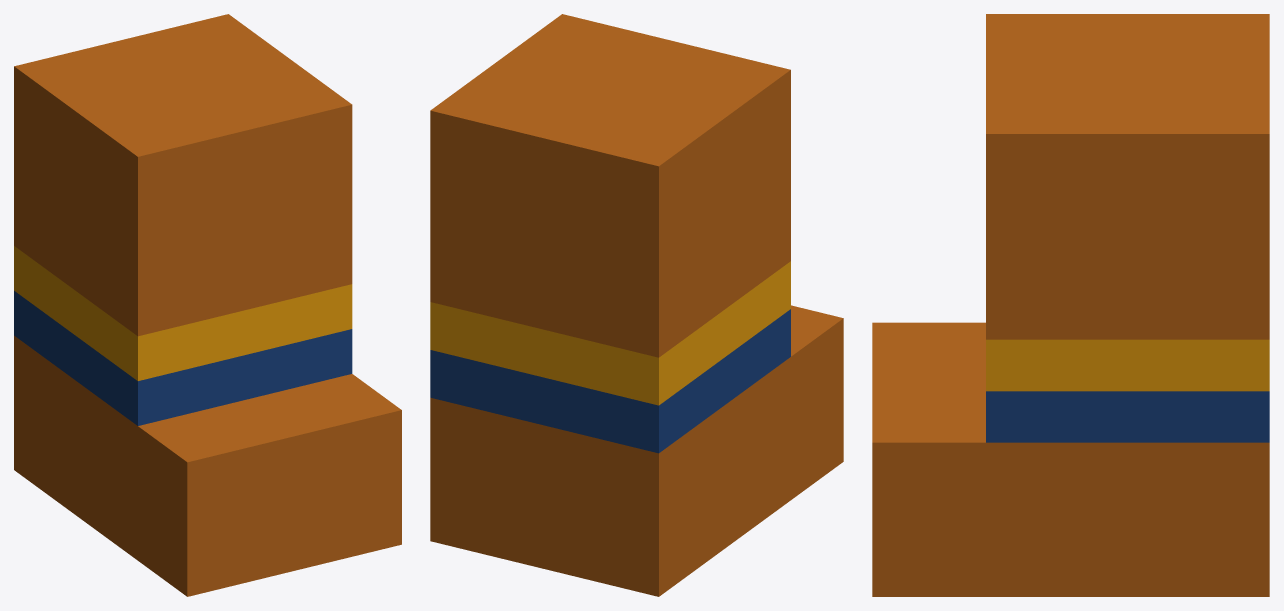
Rendered from Gor-0.obj.
3 views of the same model, side by side, from view 1: azimuth 30°, elevation 25°; view 2: azimuth 150°, elevation 25°; view 3: azimuth 270°, elevation 25° (orthographic). The views are drawn at different scales.
Size of the model in its own units: 0.5 by 0.9 by 0.7.
Materials: 1 (1 with a texture image).
